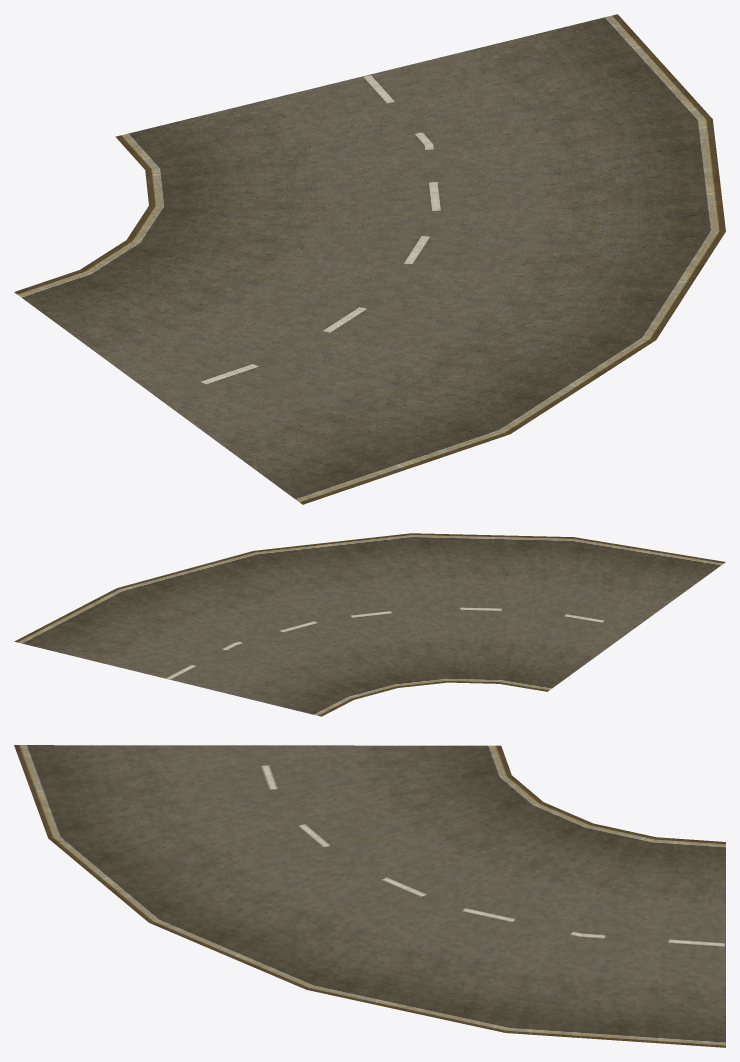
File: road_left_small.FBX
3 views of the same model, one above another, from view 1: azimuth 30°, elevation 25°; view 2: azimuth 150°, elevation 25°; view 3: azimuth 270°, elevation 25° (orthographic). The views are drawn at different scales.
Parts seen in each view (by area): view 1: Road_Turn_C; view 2: Road_Turn_C; view 3: Road_Turn_C.
Boxes of the visible parts, <box> form: Road_Turn_C: <box>14,14,725,504</box>; Road_Turn_C: <box>14,533,725,716</box>; Road_Turn_C: <box>14,745,725,1047</box>.
Size of the model in its own units: 925 by 4.02e-05 by 919.
